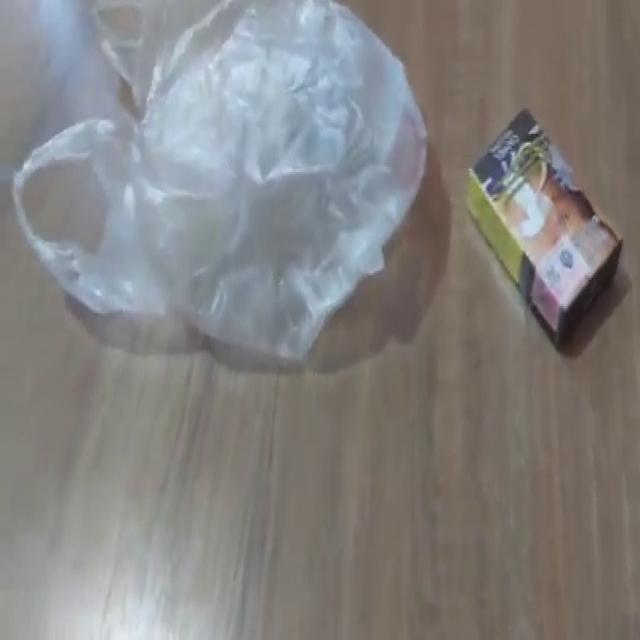Anorganik: (1, 1, 430, 368)
Organik: (463, 101, 626, 353)
